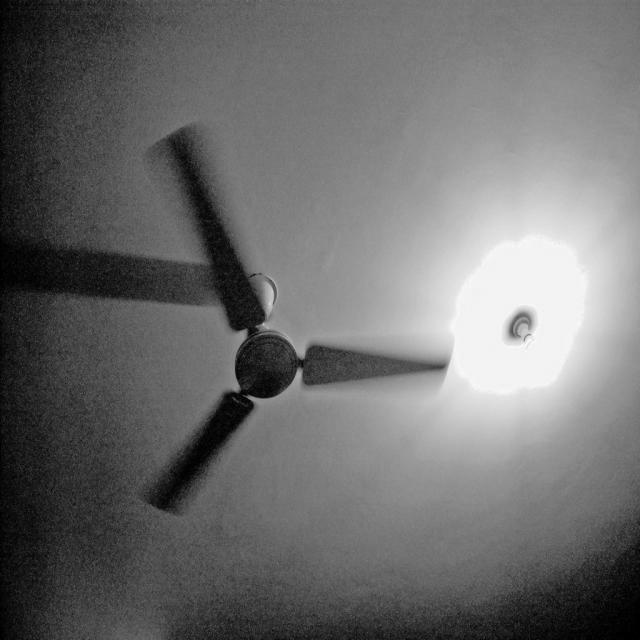fan: (4, 121, 451, 514)
light: (449, 234, 587, 395)
